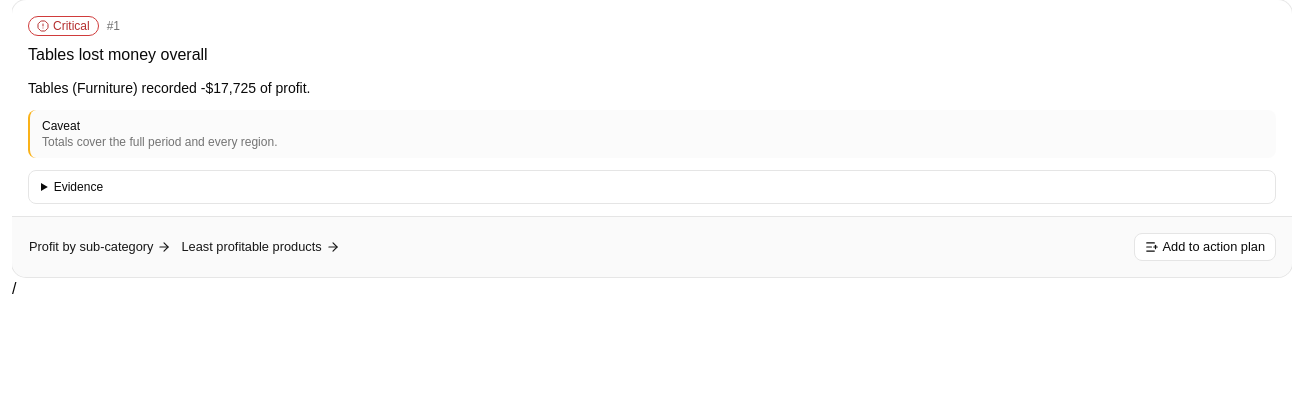
Scenario: InsightCard › shows severity with a label, the caveat, evidence and metric links
Check: the text "Critical" is shown, box [28, 16, 99, 36]
Check: the text "Totals cover the full period and every region." is shown, box [42, 135, 278, 149]
Step 1. Click the heading "Evidence" → (78, 187), box [54, 180, 103, 194]
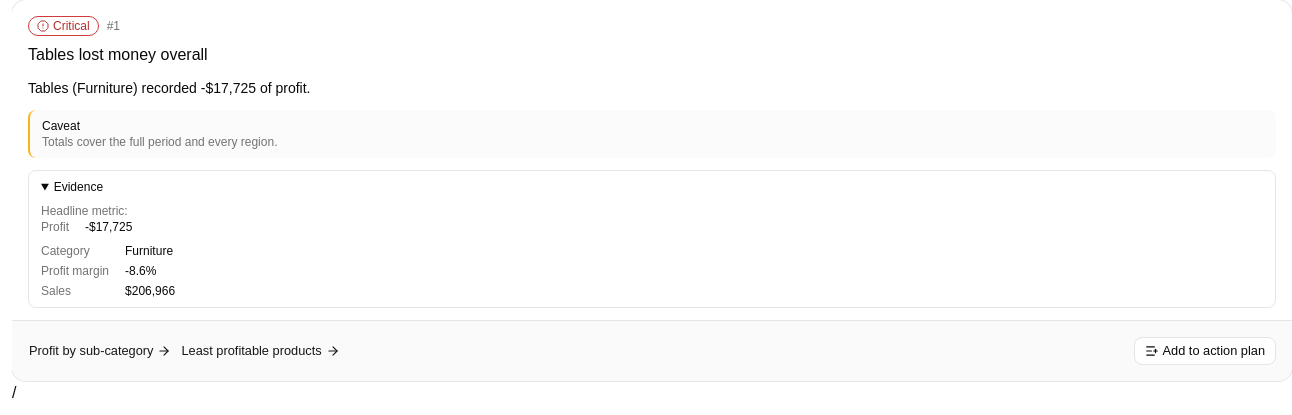
Check: the text "-8.6%" is shown, box [125, 264, 156, 278]
Check: the text "$206,966" is shown, box [125, 284, 175, 298]
